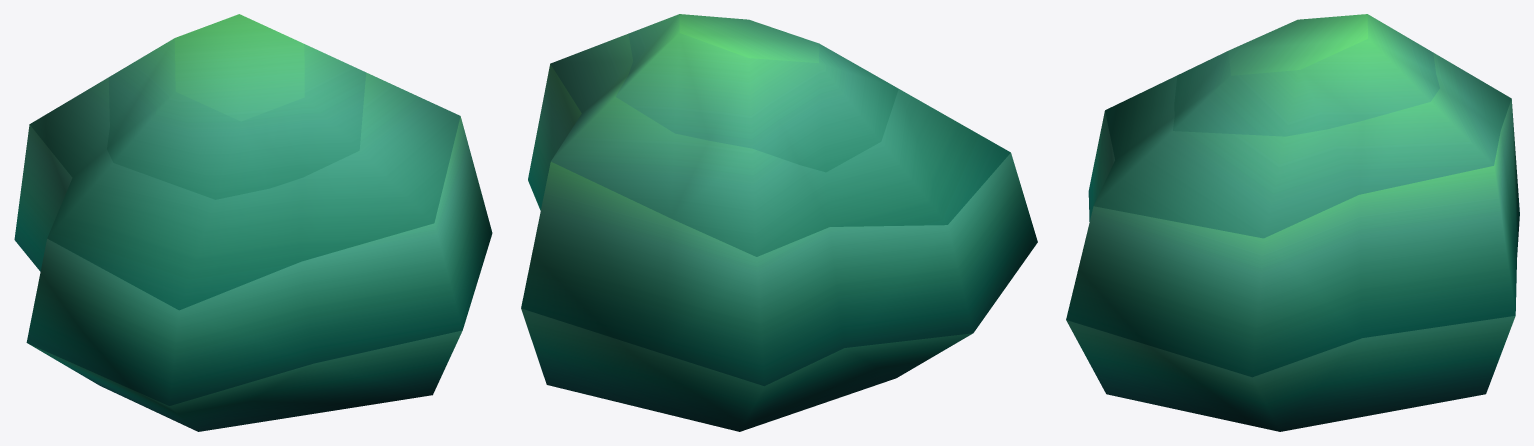
Rendered from Bush 01.FBX.
3 views of the same model, side by side, from view 1: azimuth 30°, elevation 25°; view 2: azimuth 150°, elevation 25°; view 3: azimuth 270°, elevation 25° (orthographic). The views are drawn at different scales.
Visible parts, largest first — view 1: Bush 01; view 2: Bush 01; view 3: Bush 01.
Part boxes in pixels (left/top/right/bottom): Bush 01: left=14, top=14, right=492, bottom=431; Bush 01: left=521, top=14, right=1037, bottom=431; Bush 01: left=1066, top=14, right=1519, bottom=431.
Size of the model in its own units: 126 by 83.19 by 107.
Materials: 1 (1 with a texture image).
